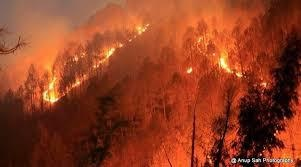fire: (38, 32, 128, 107), (188, 29, 246, 77)
